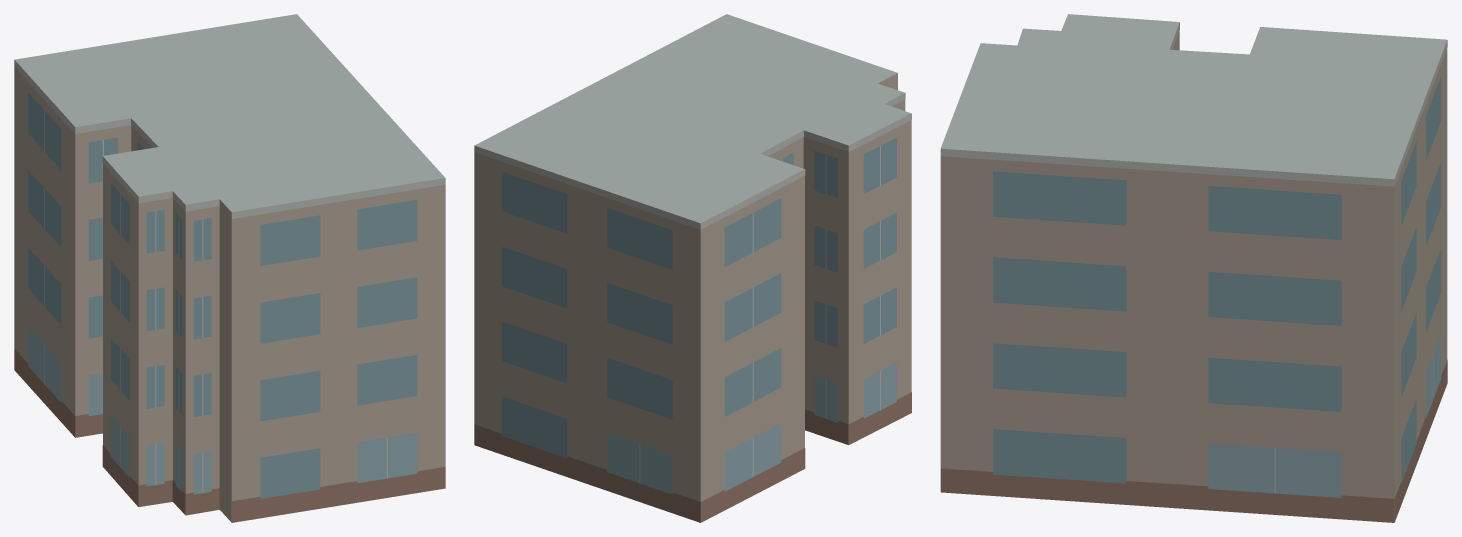
Rendered from survey-upis-32675967.glb.
3 renders of one model, left to right at view 1: azimuth 30°, elevation 25°; view 2: azimuth 150°, elevation 25°; view 3: azimuth 270°, elevation 25°, orthographic. The views are drawn at different scales.
Parts seen in each view (by area): view 1: survey-upis-32675967.tmp; view 2: survey-upis-32675967.tmp; view 3: survey-upis-32675967.tmp.
Boxes of the visible parts, x1=… form: survey-upis-32675967.tmp: x1=14, y1=14, x2=445, y2=522; survey-upis-32675967.tmp: x1=474, y1=14, x2=911, y2=522; survey-upis-32675967.tmp: x1=940, y1=14, x2=1447, y2=522.
Bounding box in the file's own units: 11.56 × 11.2 × 14.99.
